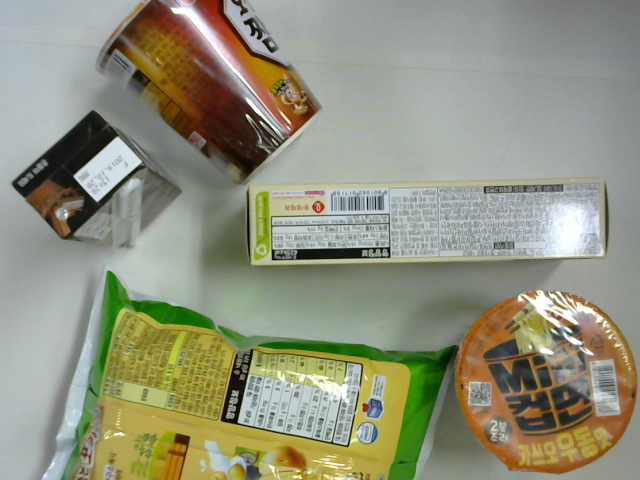Chicchok_Tiramisu: (219, 179, 635, 269)
Hush_Choco_Drink: (5, 114, 184, 253)
Ojjam: (97, 1, 320, 166)
Pocachip_Onion: (54, 288, 429, 480)
Udongmini: (455, 288, 628, 480)
